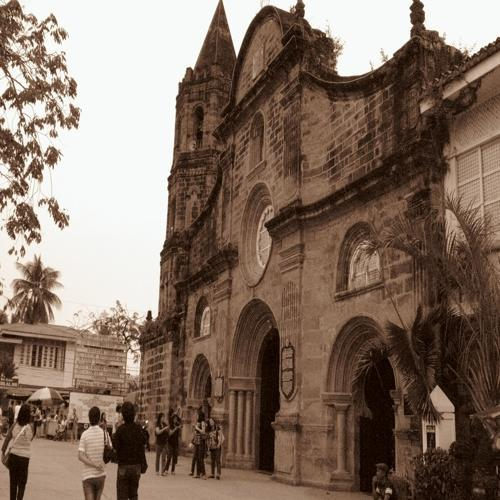Barasoain Church: (136, 2, 431, 490)
